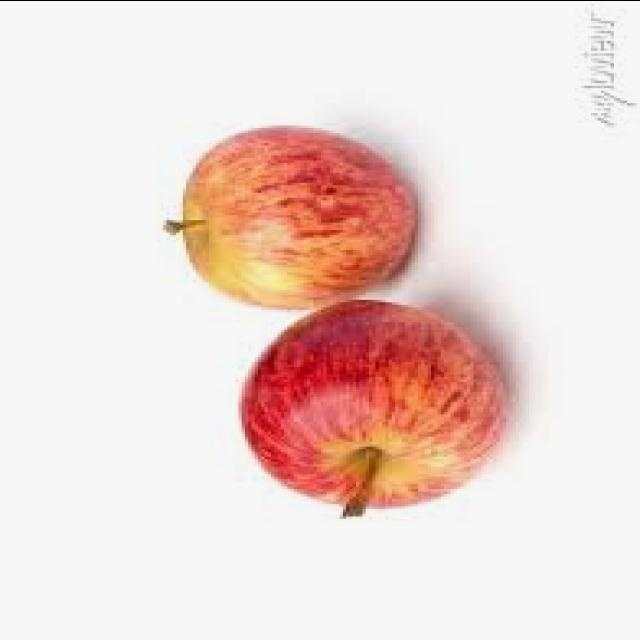agrume: (213, 288, 539, 540), (146, 107, 457, 337)
